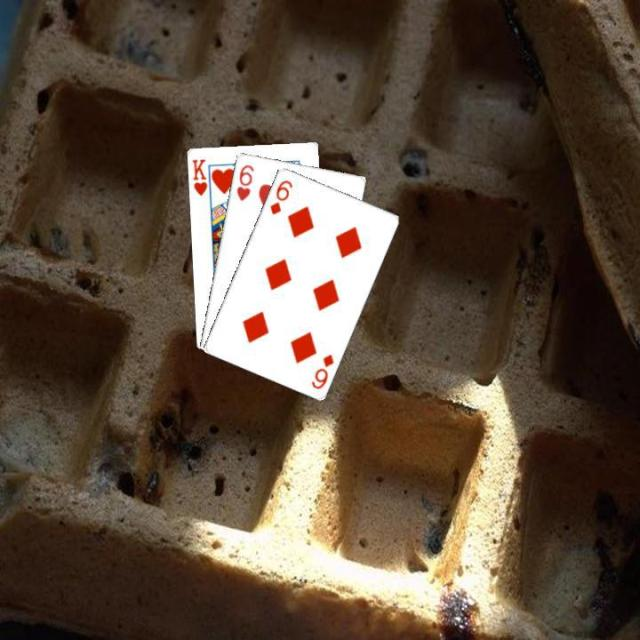6D: (266, 176, 294, 216), (308, 350, 335, 390)
6H: (232, 160, 255, 203)
KH: (187, 155, 209, 197)
